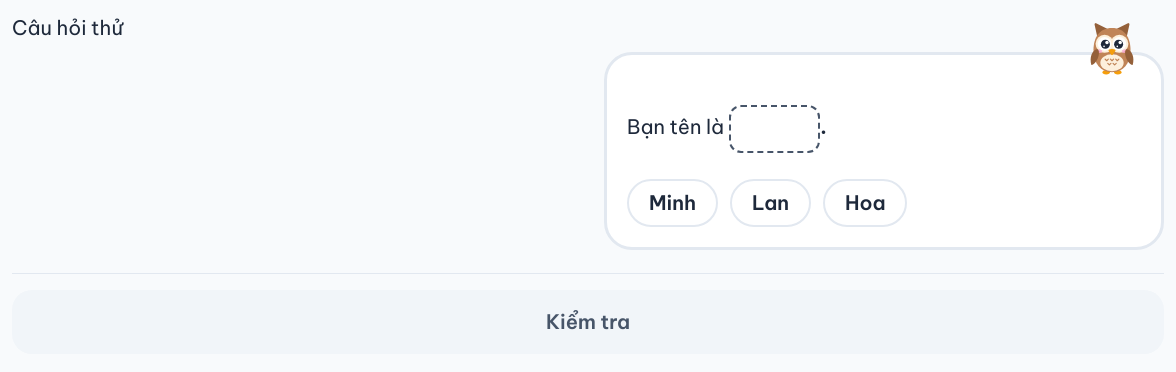
Scenario: FillBlankAnswer with a word bank › clears a filled blank tapped with no word picked
The image size is (1176, 372).
Click the button "Hoa". click: {"x": 865, "y": 203}
box: [823, 179, 907, 227]
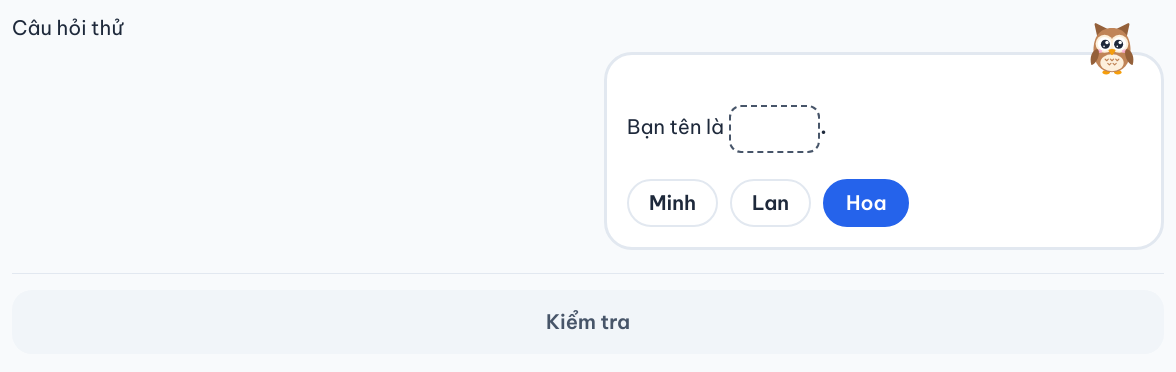
Click the button named "Ô trống 1". click: {"x": 774, "y": 129}
box: [729, 105, 820, 153]
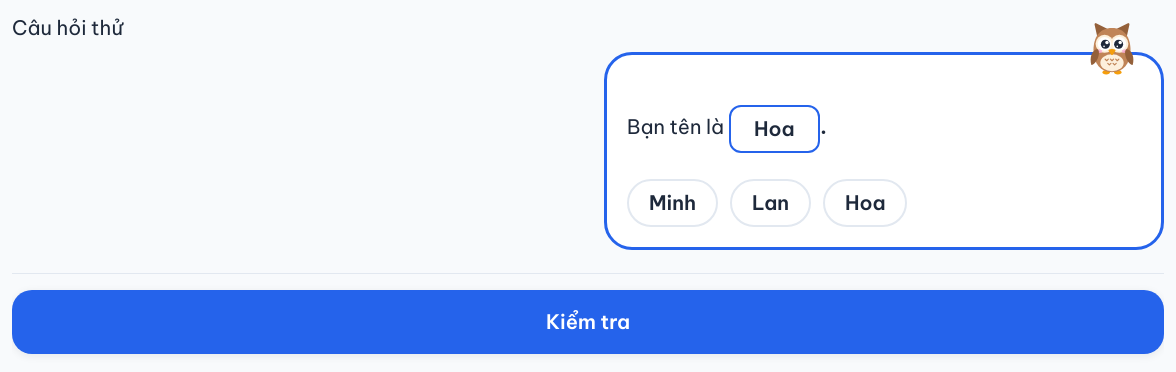
Click the button with aria-label "Ô trống 1". click: {"x": 774, "y": 129}
box: [729, 105, 820, 153]
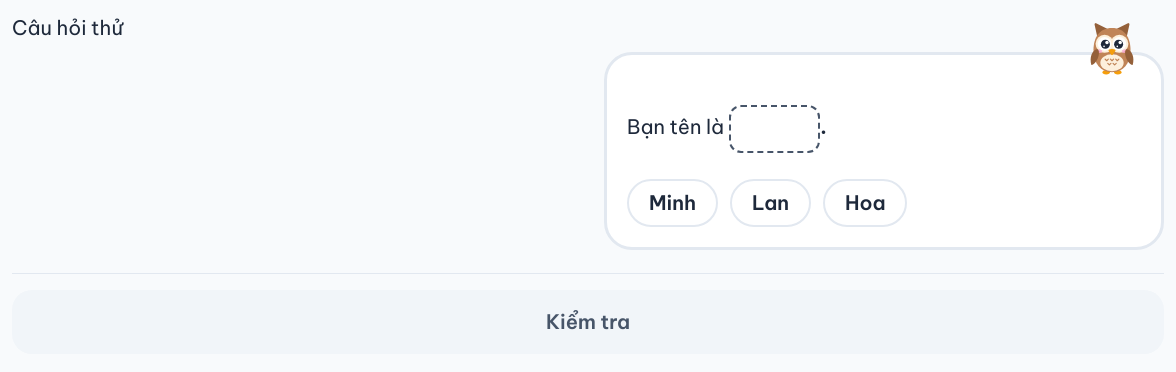
Check: the button "Kiểm tra" is disabled, box [12, 290, 1164, 354]
